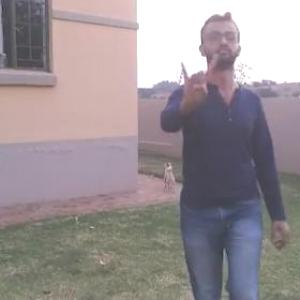takeoff-hand: (174, 49, 219, 112)
